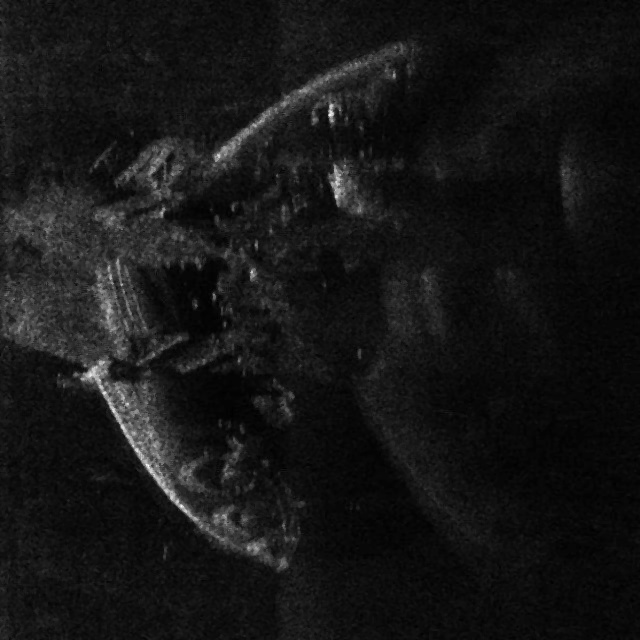Ship: (49, 20, 443, 587)
